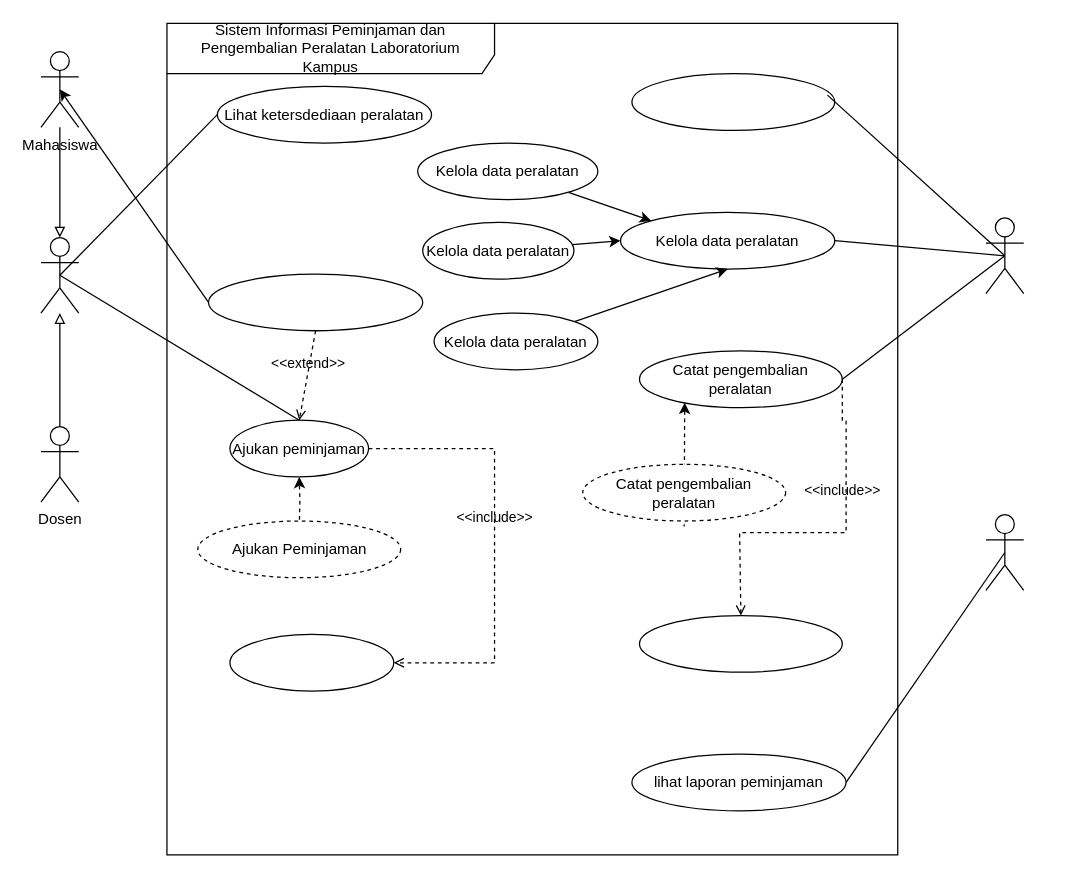
This 1071x877 diagram has some shape labels left out. Here are the shapes that lost their labels. From the top down, the centre of each, then its label:
[733,101]: proses keputusan peminjaman
[59,274]: Peminjam
[1004,255]: Petugas Laboratorium
[315,302]: Cetak Bukti Pengajuan
[1004,551]: kepala laboratorium
[311,662]: Periksa Ketersediaan
[740,643]: Periksa kondisi peralatan
